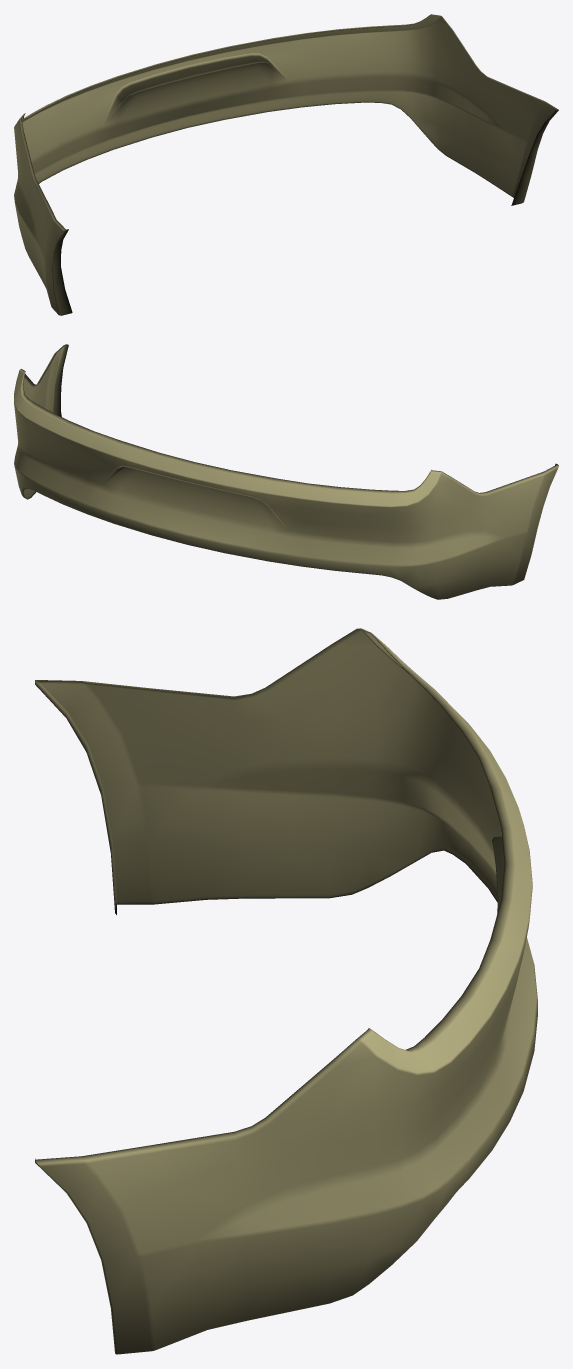
File: Mustang16_RB_05_Duco.fbx
3 renders of one model, top to bottom at view 1: azimuth 30°, elevation 25°; view 2: azimuth 150°, elevation 25°; view 3: azimuth 270°, elevation 25°, orthographic. The views are drawn at different scales.
Visible parts, largest first — view 1: Mustang16_RB_05_Duco; view 2: Mustang16_RB_05_Duco; view 3: Mustang16_RB_05_Duco.
Part boxes in pixels (bbox=[...]): Mustang16_RB_05_Duco: bbox=[14, 14, 558, 315]; Mustang16_RB_05_Duco: bbox=[14, 344, 558, 599]; Mustang16_RB_05_Duco: bbox=[35, 628, 537, 1354].
Size of the model in its own units: 190 by 54.97 by 83.59.
